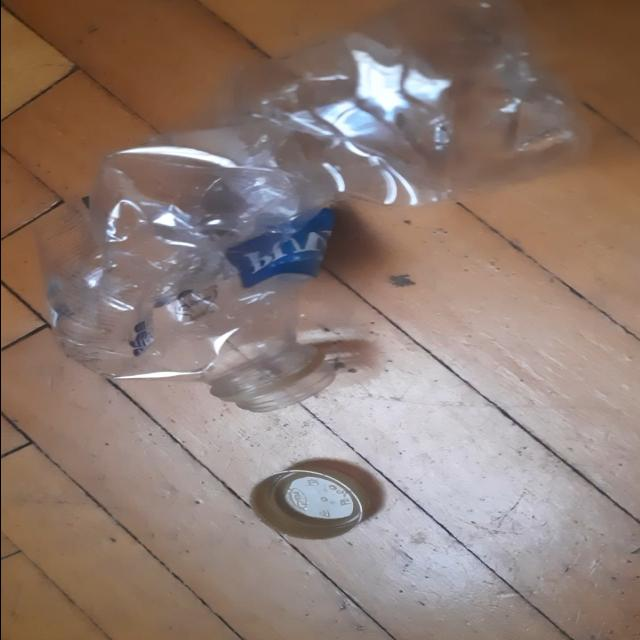Plastic: (44, 2, 588, 412)
